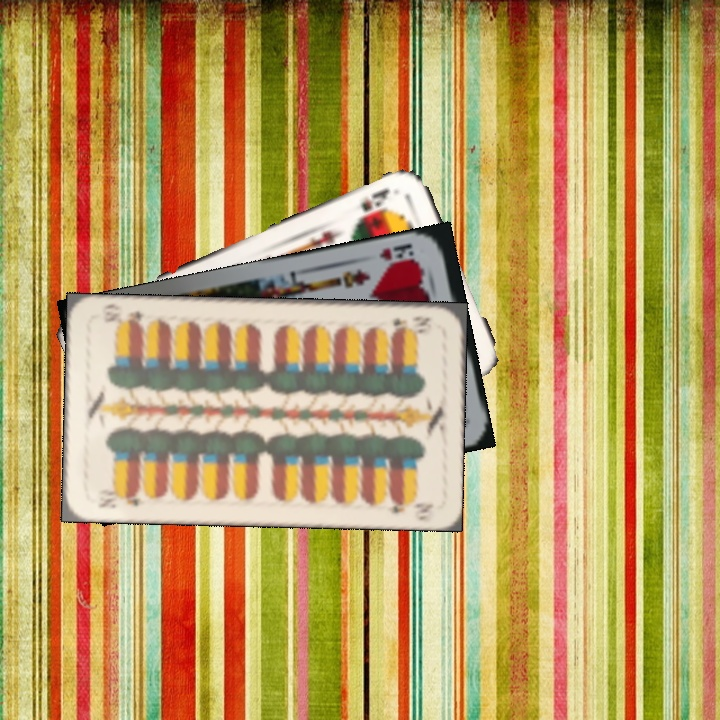E10: (94, 487, 146, 511), (389, 312, 434, 336)
HK: (375, 240, 416, 263)
SK: (353, 184, 393, 223)
